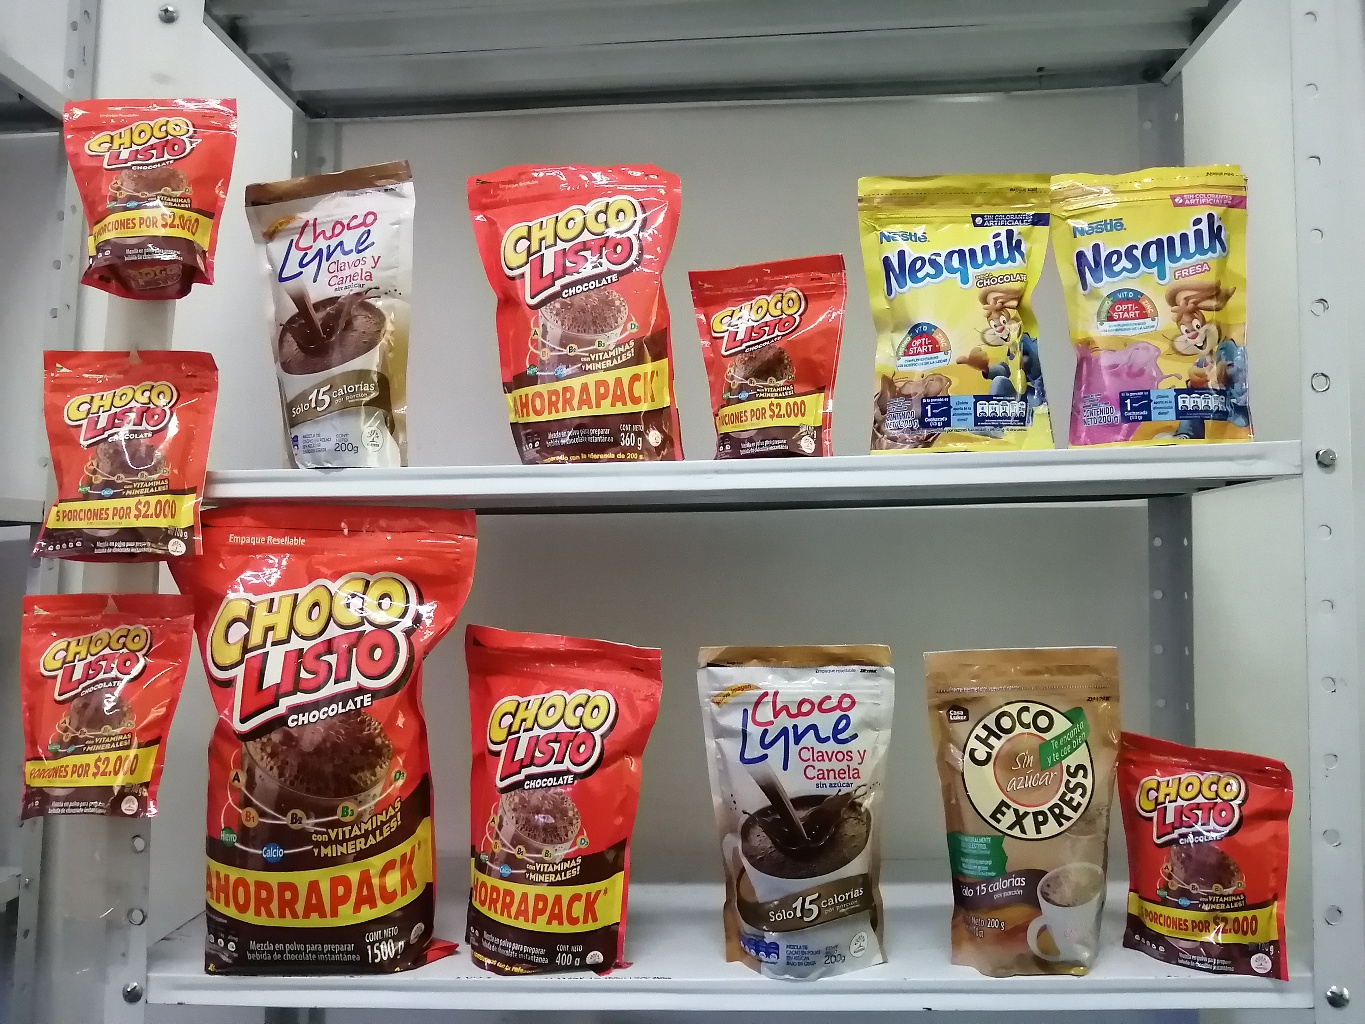COL0170103DYP1,500: (157, 499, 458, 973)
COL0170103DYP10000: (60, 95, 243, 301)
COL0170103DYP36000: (467, 168, 689, 463)
COL0170103DYP40000: (465, 616, 666, 973)
COL0170303DYP20000: (853, 173, 1061, 451)
COL0170305DYP20000: (1050, 165, 1262, 447)
